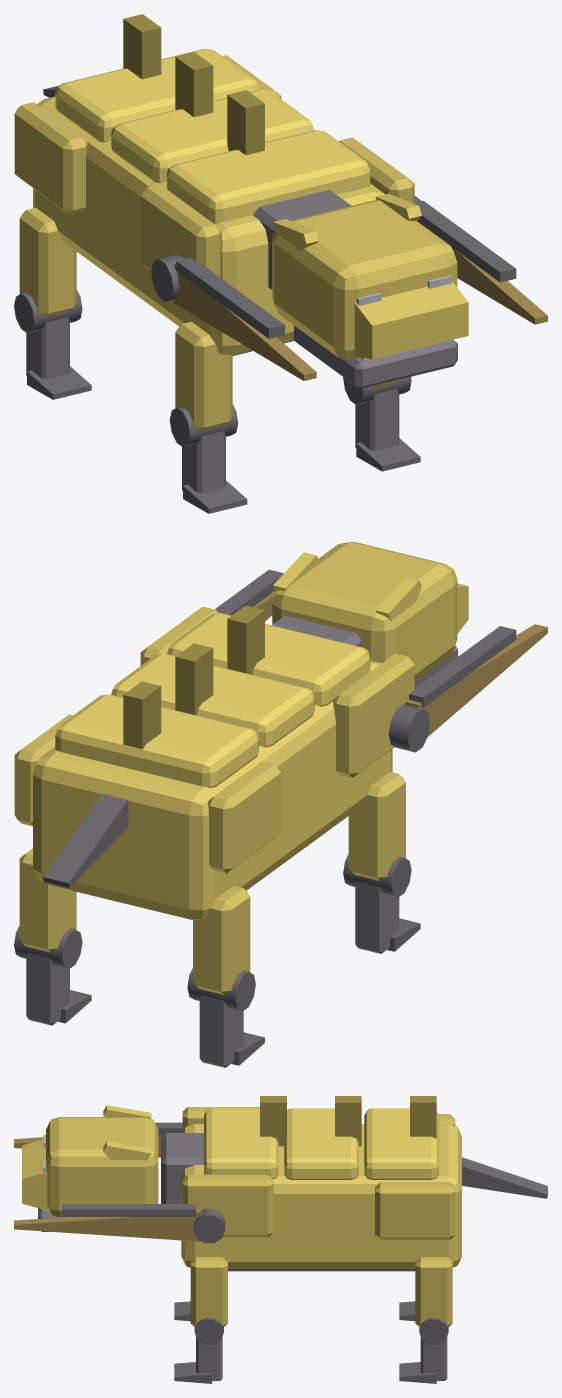
File: ripper.glb
3 views of the same model, one above another, from view 1: azimuth 30°, elevation 25°; view 2: azimuth 150°, elevation 25°; view 3: azimuth 270°, elevation 25° (orthographic). The views are drawn at different scales.
Visible parts, largest first — view 1: ripper*0.9, ripper.001, ripper*1.003, ripper*1.002, ripper*1.1, ripper*0.006, ripper*0.005, ripper*0.008, ripper*0.004, ripper*0.011, gunmetal*1.002, glow*0.001 (+20 smaller); view 2: ripper.001, ripper*0.9, ripper*1.1, ripper*1.002, ripper*1.003, ripper*0.004, ripper*0.005, ripper*0.011, ripper*0.008, ripper*0.010, gunmetal, glow*0.001 (+17 smaller); view 3: ripper.001, ripper*0.9, ripper*1.1, ripper*0.003, ripper*0.85, ripper*1.002, ripper*1.003, glow*0.4, ripper*0.010, ripper*0.007, gunmetal*1.001, gunmetal (+16 smaller).
Boxes of the visible parts, x1=… form: ripper*0.9: x1=272, y1=200, x2=457, y2=359; ripper.001: x1=33, y1=96, x2=384, y2=355; ripper*1.003: x1=166, y1=130, x2=370, y2=223; ripper*1.002: x1=111, y1=89, x2=314, y2=183; ripper*1.1: x1=55, y1=49, x2=258, y2=142; ripper*0.006: x1=353, y1=281, x2=468, y2=359; ripper*0.005: x1=14, y1=102, x2=87, y2=214; ripper*0.008: x1=175, y1=321, x2=232, y2=430; ripper*0.004: x1=140, y1=184, x2=221, y2=277; ripper*0.011: x1=19, y1=207, x2=76, y2=316; gunmetal*1.002: x1=294, y1=325, x2=457, y2=388; glow*0.001: x1=174, y1=262, x2=316, y2=380; ripper.001: x1=33, y1=660, x2=392, y2=919; ripper*0.9: x1=272, y1=542, x2=457, y2=681; ripper*1.1: x1=55, y1=694, x2=258, y2=787; ripper*1.002: x1=111, y1=653, x2=314, y2=747; ripper*1.003: x1=167, y1=613, x2=370, y2=706; ripper*0.004: x1=333, y1=653, x2=414, y2=777; ripper*0.005: x1=208, y1=761, x2=281, y2=873; ripper*0.011: x1=193, y1=886, x2=250, y2=994; ripper*0.008: x1=348, y1=772, x2=405, y2=880; ripper*0.010: x1=19, y1=848, x2=76, y2=952; gunmetal: x1=43, y1=793, x2=128, y2=887; glow*0.001: x1=405, y1=624, x2=547, y2=736; ripper.001: x1=181, y1=1124, x2=461, y2=1268; ripper*0.9: x1=46, y1=1117, x2=158, y2=1217; ripper*1.1: x1=364, y1=1108, x2=439, y2=1179; ripper*0.003: x1=375, y1=1182, x2=455, y2=1239; ripper*0.85: x1=182, y1=1174, x2=273, y2=1237; ripper*1.002: x1=284, y1=1108, x2=358, y2=1179; ripper*1.003: x1=204, y1=1108, x2=278, y2=1179; glow*0.4: x1=14, y1=1208, x2=201, y2=1241; ripper*0.010: x1=415, y1=1257, x2=452, y2=1327; ripper*0.007: x1=190, y1=1257, x2=227, y2=1327; gunmetal*1.001: x1=161, y1=1133, x2=203, y2=1203; gunmetal: x1=462, y1=1157, x2=547, y2=1198.
Bounding box in the file's own units: 0.8 × 1.02 × 2.
